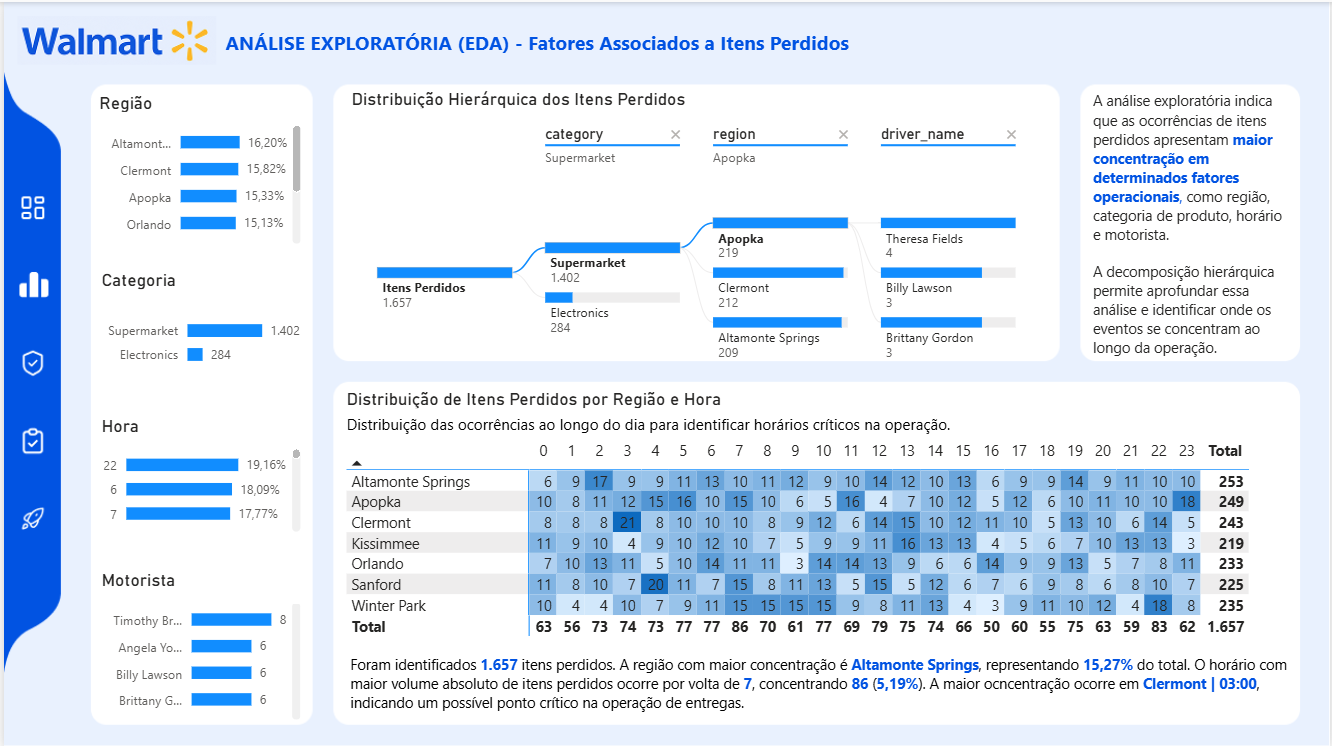

This screenshot's page, from the dashboard's own definition file:
{"tool":"powerbi","page":{"name":"EDA","canvas":[1280,720],"ordinal":1},"visuals":[{"type":"textbox","box":[209.2,21.6,835.4,49.1],"z":0},{"type":"clusteredBarChart","title":"Hora","fields":{"Y":["_Medidas.Missing Rate"],"Category":["orders.Hour"]},"box":[89.5,399.6,202,116.9],"z":1000},{"type":"clusteredBarChart","title":"Região","fields":{"Y":["_Medidas.Missing Rate"],"Category":["orders.region"]},"box":[89.5,86.6,202,151.5],"z":2000},{"type":"clusteredBarChart","title":"Categoria","fields":{"Category":["products_data.category"],"Y":["_Medidas.Total Missing Items"]},"box":[89.5,258.3,202,115.4],"z":3000},{"type":"clusteredBarChart","title":"Motorista","fields":{"Category":["drivers_data.driver_name"],"Y":["_Medidas.Total Missing Items"]},"box":[89.5,548.2,202,150],"z":4000},{"type":"pivotTable","title":"Distribuição de Itens Perdidos por Região e Hora","fields":{"Rows":["orders.region"],"Columns":["orders.Hour"],"Values":["_Medidas.Total Missing Items"]},"box":[326.1,372.2,932,292.9],"z":5000},{"type":"enlightenDataStoryDDFB78A6143E42CFAFBC50CCF18D978D","fields":{"measure":["_Medidas.Total Missing Items","_Medidas.Top Region (Missing)","_Medidas.Top Region Share","_Medidas.Top Hour (Missing)","_Medidas.Top Hour Missing (Qty)","_Medidas.Top Hour Share","_Medidas.Peak Region x Hour","_Medidas.Peak Missing (Qty)"]},"box":[328.9,624.7,921.9,72.1],"z":6000},{"type":"decompositionTreeVisual","title":"Distribuição Hierárquica dos Itens Perdidos","fields":{"Analyze":["_Medidas.Total Missing Items"],"ExplainBy":["products_data.category","orders.region","drivers_data.driver_name"]},"box":[330.4,80.8,688.2,277],"z":7000},{"type":"textbox","box":[1046,80.8,194.8,266.9],"z":8000},{"type":"actionButton","box":[2.4,254.6,51.9,39.8],"z":9000},{"type":"actionButton","box":[2.4,329.4,51.9,39.8],"z":10000},{"type":"actionButton","box":[2.4,403,51.9,39.8],"z":11000},{"type":"actionButton","box":[3.6,477.8,51.9,39.8],"z":12000},{"type":"actionButton","box":[3.6,182.2,51.9,39.8],"z":13000}]}

Visuals, with their boxes on the page's 1280x720 design canvas (x1, y1, x2, y2). These are canvas units, not pixel positions in the 1332x746 screenshot, which may show the page scaled, cropped or inside an application window:
textbox: <region>209, 22, 1045, 71</region>
"Hora" clusteredBarChart: <region>90, 400, 292, 516</region>
"Região" clusteredBarChart: <region>90, 87, 292, 238</region>
"Categoria" clusteredBarChart: <region>90, 258, 292, 374</region>
"Motorista" clusteredBarChart: <region>90, 548, 292, 698</region>
"Distribuição de Itens Perdidos por Região e Hora" pivotTable: <region>326, 372, 1258, 665</region>
enlightenDataStoryDDFB78A6143E42CFAFBC50CCF18D978D - _Medidas.Total Missing Items x _Medidas.Top Region (Missing): <region>329, 625, 1251, 697</region>
"Distribuição Hierárquica dos Itens Perdidos" decompositionTreeVisual: <region>330, 81, 1019, 358</region>
textbox: <region>1046, 81, 1241, 348</region>
actionButton: <region>2, 255, 54, 294</region>
actionButton: <region>2, 329, 54, 369</region>
actionButton: <region>2, 403, 54, 443</region>
actionButton: <region>4, 478, 56, 518</region>
actionButton: <region>4, 182, 56, 222</region>
